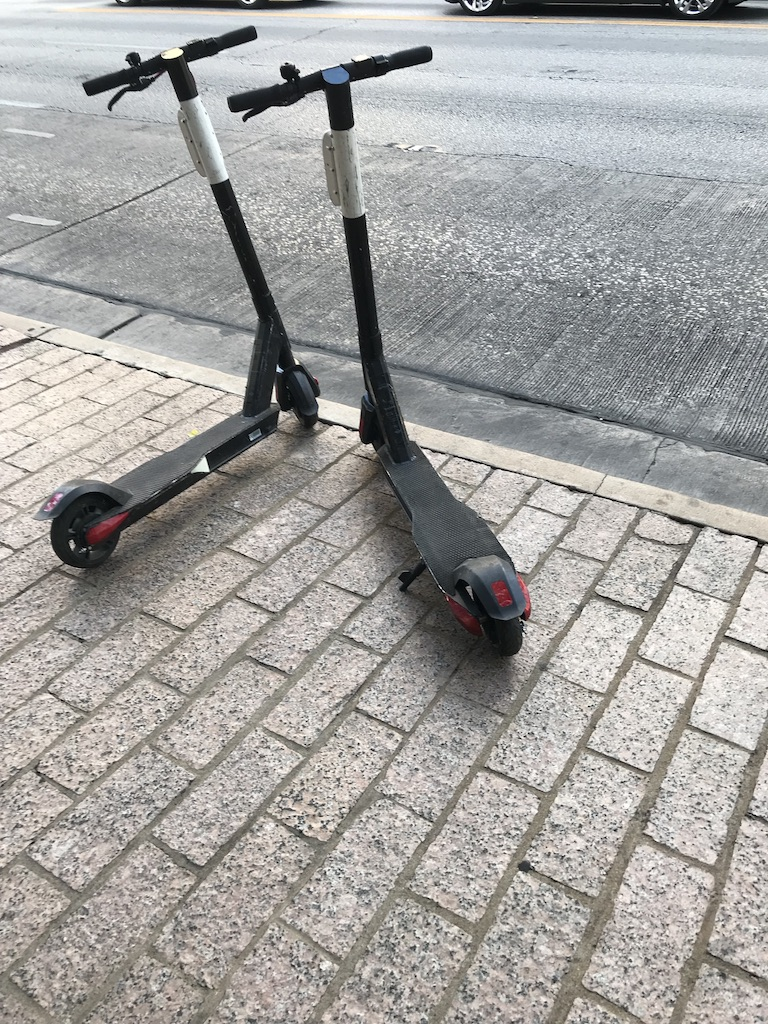scooter: (223, 44, 532, 658), (32, 22, 323, 570)
